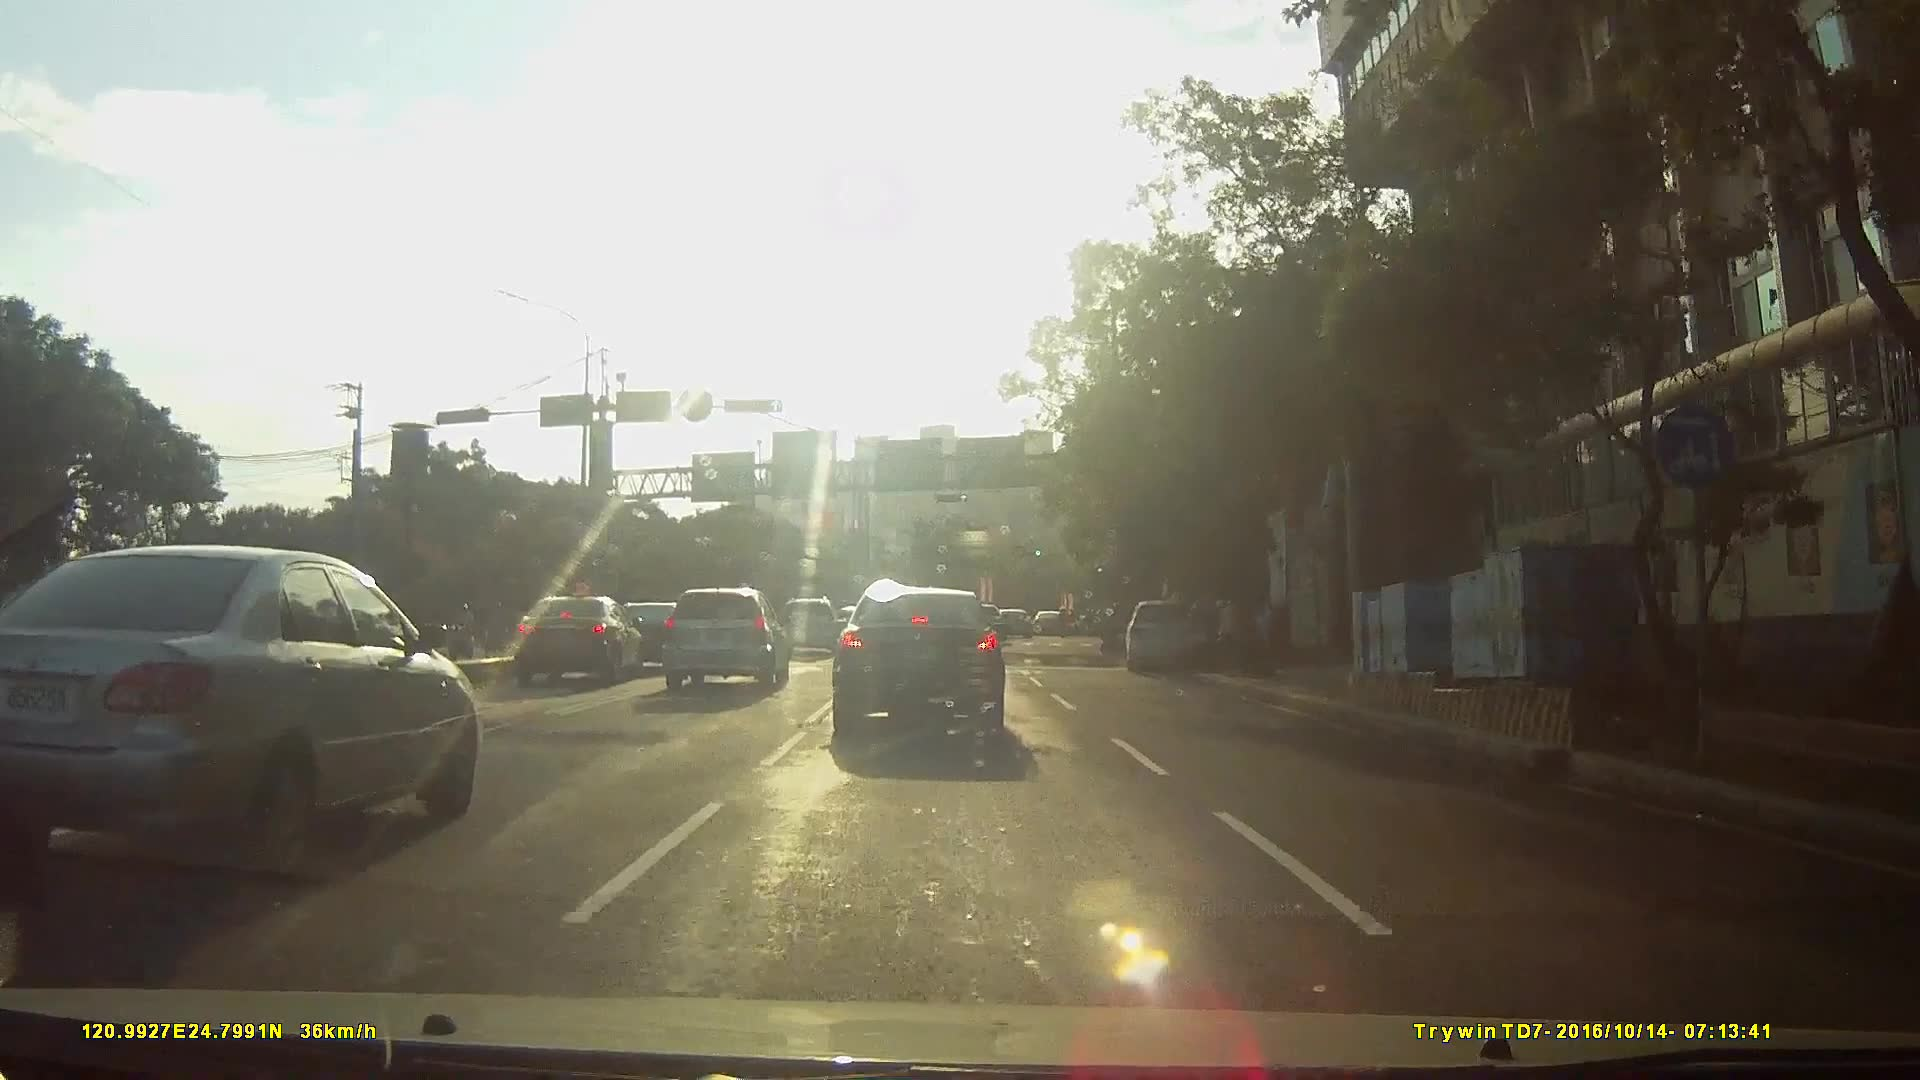pedestrian: (1214, 601, 1239, 665)
rider: (450, 600, 477, 661)
vehicle: (1, 543, 501, 894), (823, 601, 1022, 771), (488, 598, 633, 694), (656, 588, 789, 692), (1130, 600, 1215, 679), (597, 603, 683, 673), (775, 600, 845, 663), (957, 606, 1013, 653), (996, 611, 1035, 643), (1031, 611, 1072, 639)
